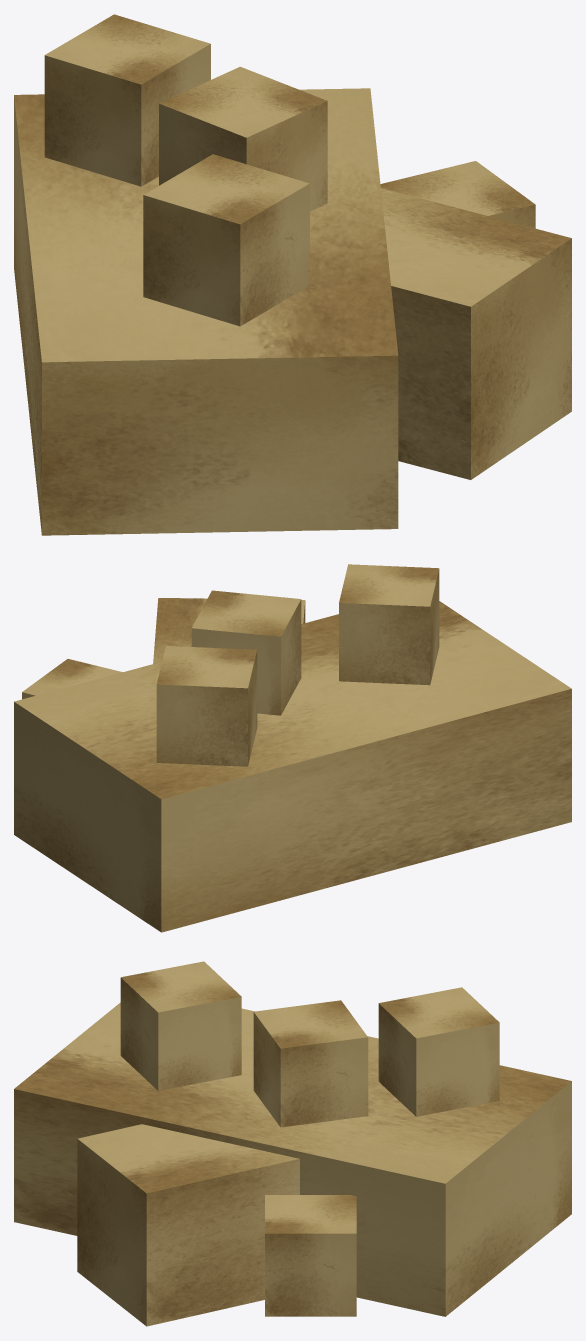
File: SimpleDebris.glb
The picture shows the model from 3 angles, top to bottom: view 1: azimuth 30°, elevation 25°; view 2: azimuth 150°, elevation 25°; view 3: azimuth 270°, elevation 25°; orthographic projection. The views are drawn at different scales.
Visible parts, largest first — view 1: Cube.002, Cube, Cube.004, Cube.005, Cube.003, Cube.001; view 2: Cube.002, Cube.005, Cube.004, Cube.003, Cube, Cube.001; view 3: Cube.002, Cube, Cube.005, Cube.004, Cube.003, Cube.001.
Boxes of the visible parts, bbox=[...] form: Cube.002: bbox=[14, 88, 398, 535]; Cube: bbox=[381, 188, 571, 479]; Cube.004: bbox=[143, 154, 309, 326]; Cube.005: bbox=[44, 14, 210, 186]; Cube.003: bbox=[159, 66, 327, 211]; Cube.001: bbox=[380, 161, 535, 228]; Cube.002: bbox=[14, 601, 571, 932]; Cube.005: bbox=[156, 646, 257, 766]; Cube.004: bbox=[339, 564, 439, 685]; Cube.003: bbox=[191, 590, 301, 715]; Cube: bbox=[153, 598, 305, 663]; Cube.001: bbox=[22, 659, 122, 699]; Cube.002: bbox=[14, 1002, 571, 1316]; Cube: bbox=[77, 1124, 299, 1326]; Cube.005: bbox=[378, 987, 499, 1116]; Cube.004: bbox=[120, 961, 241, 1090]; Cube.003: bbox=[253, 1000, 368, 1127]; Cube.001: bbox=[265, 1195, 356, 1316].
Bounding box in the file's own units: 6.94 × 3.29 × 7.6.
Materials: 6 (6 with a texture image).
